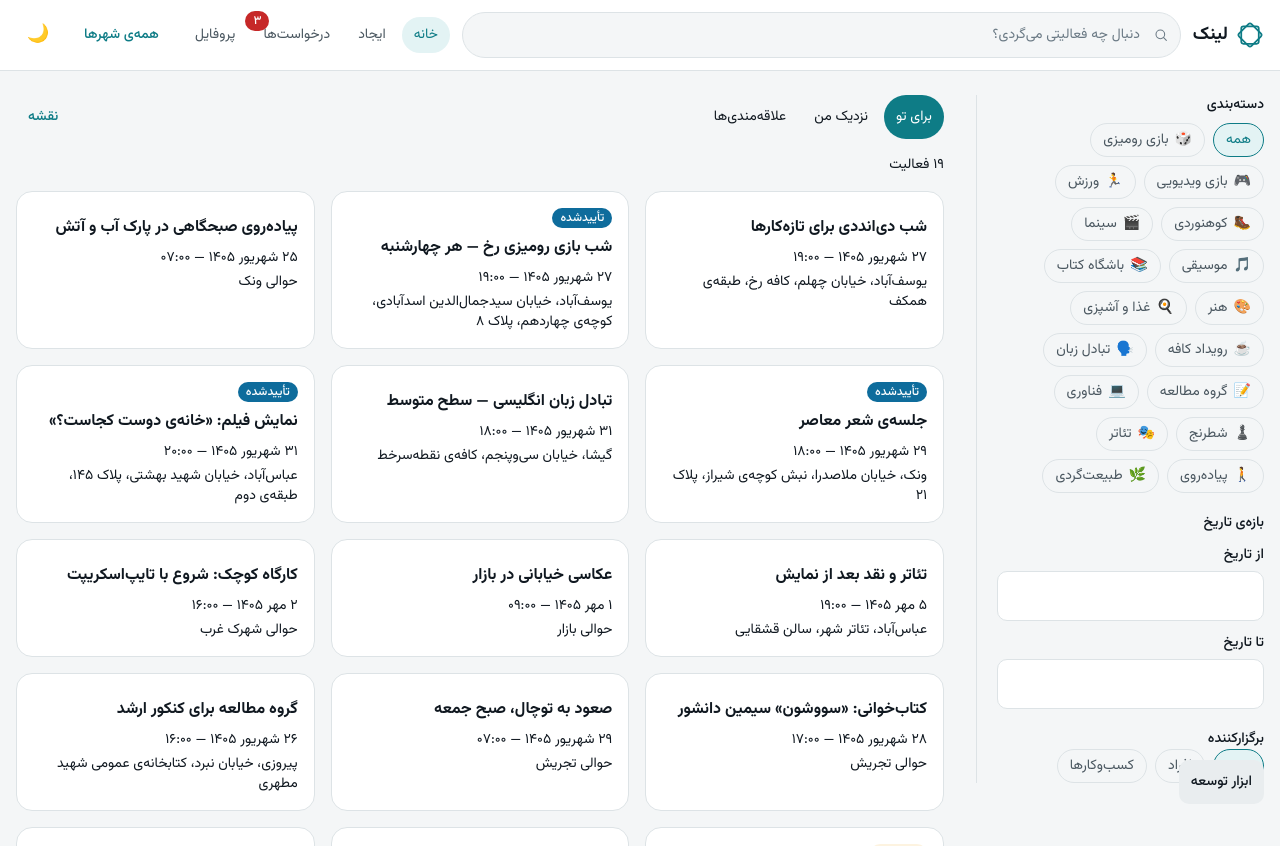
Test: activity detail › shows the host here, where the decision to contact a stranger is made
Click the link that starts with "شب دی‌اند‌دی برای تازه‌کارها" at coordinates (795, 260), box top-left (662, 208), bottom-right (927, 312)
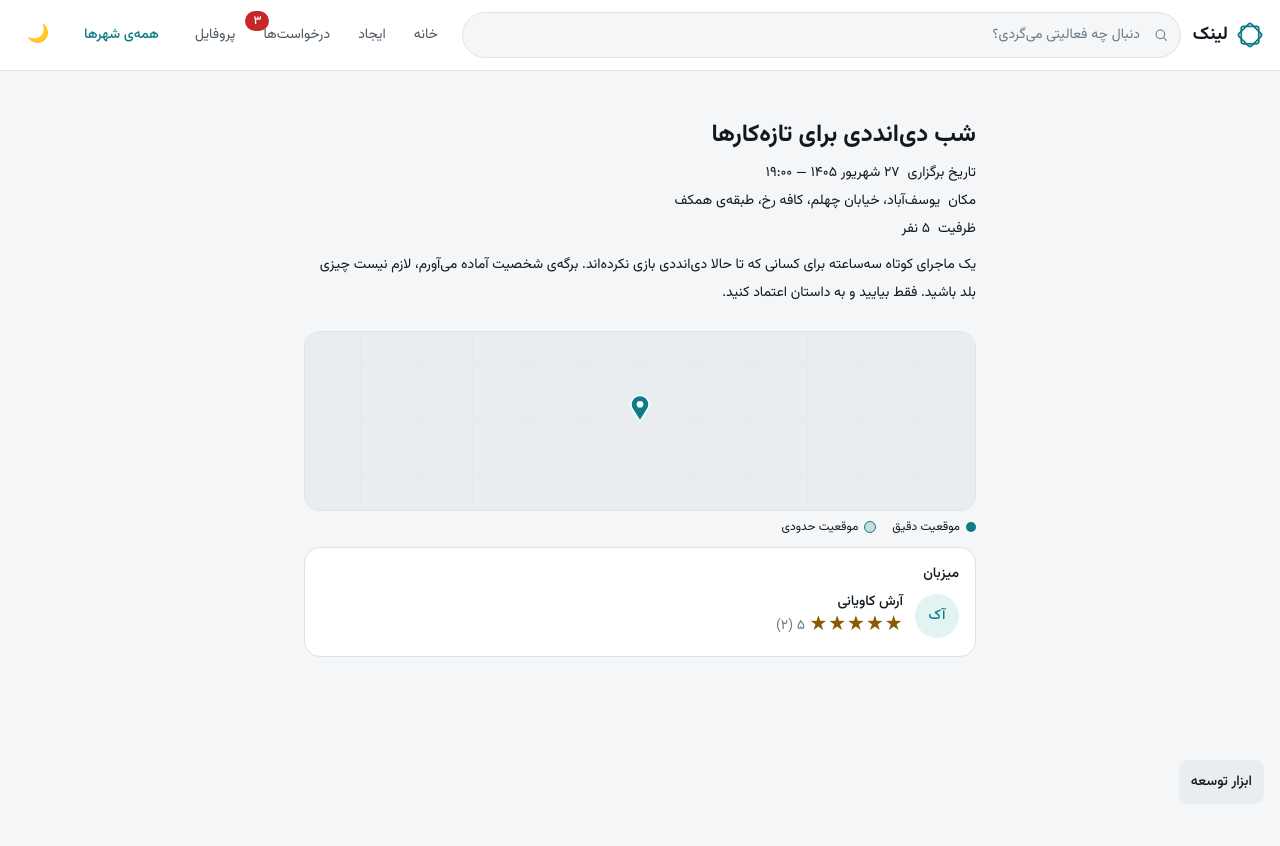
Check: the heading "میزبان" is shown, box top-left (923, 563), bottom-right (959, 585)
